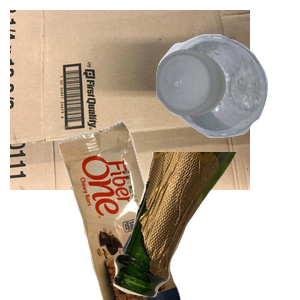cardboard: (10, 10, 250, 190)
glass: (111, 152, 300, 300)
plastic: (153, 31, 300, 161)
trash: (56, 120, 229, 300)
